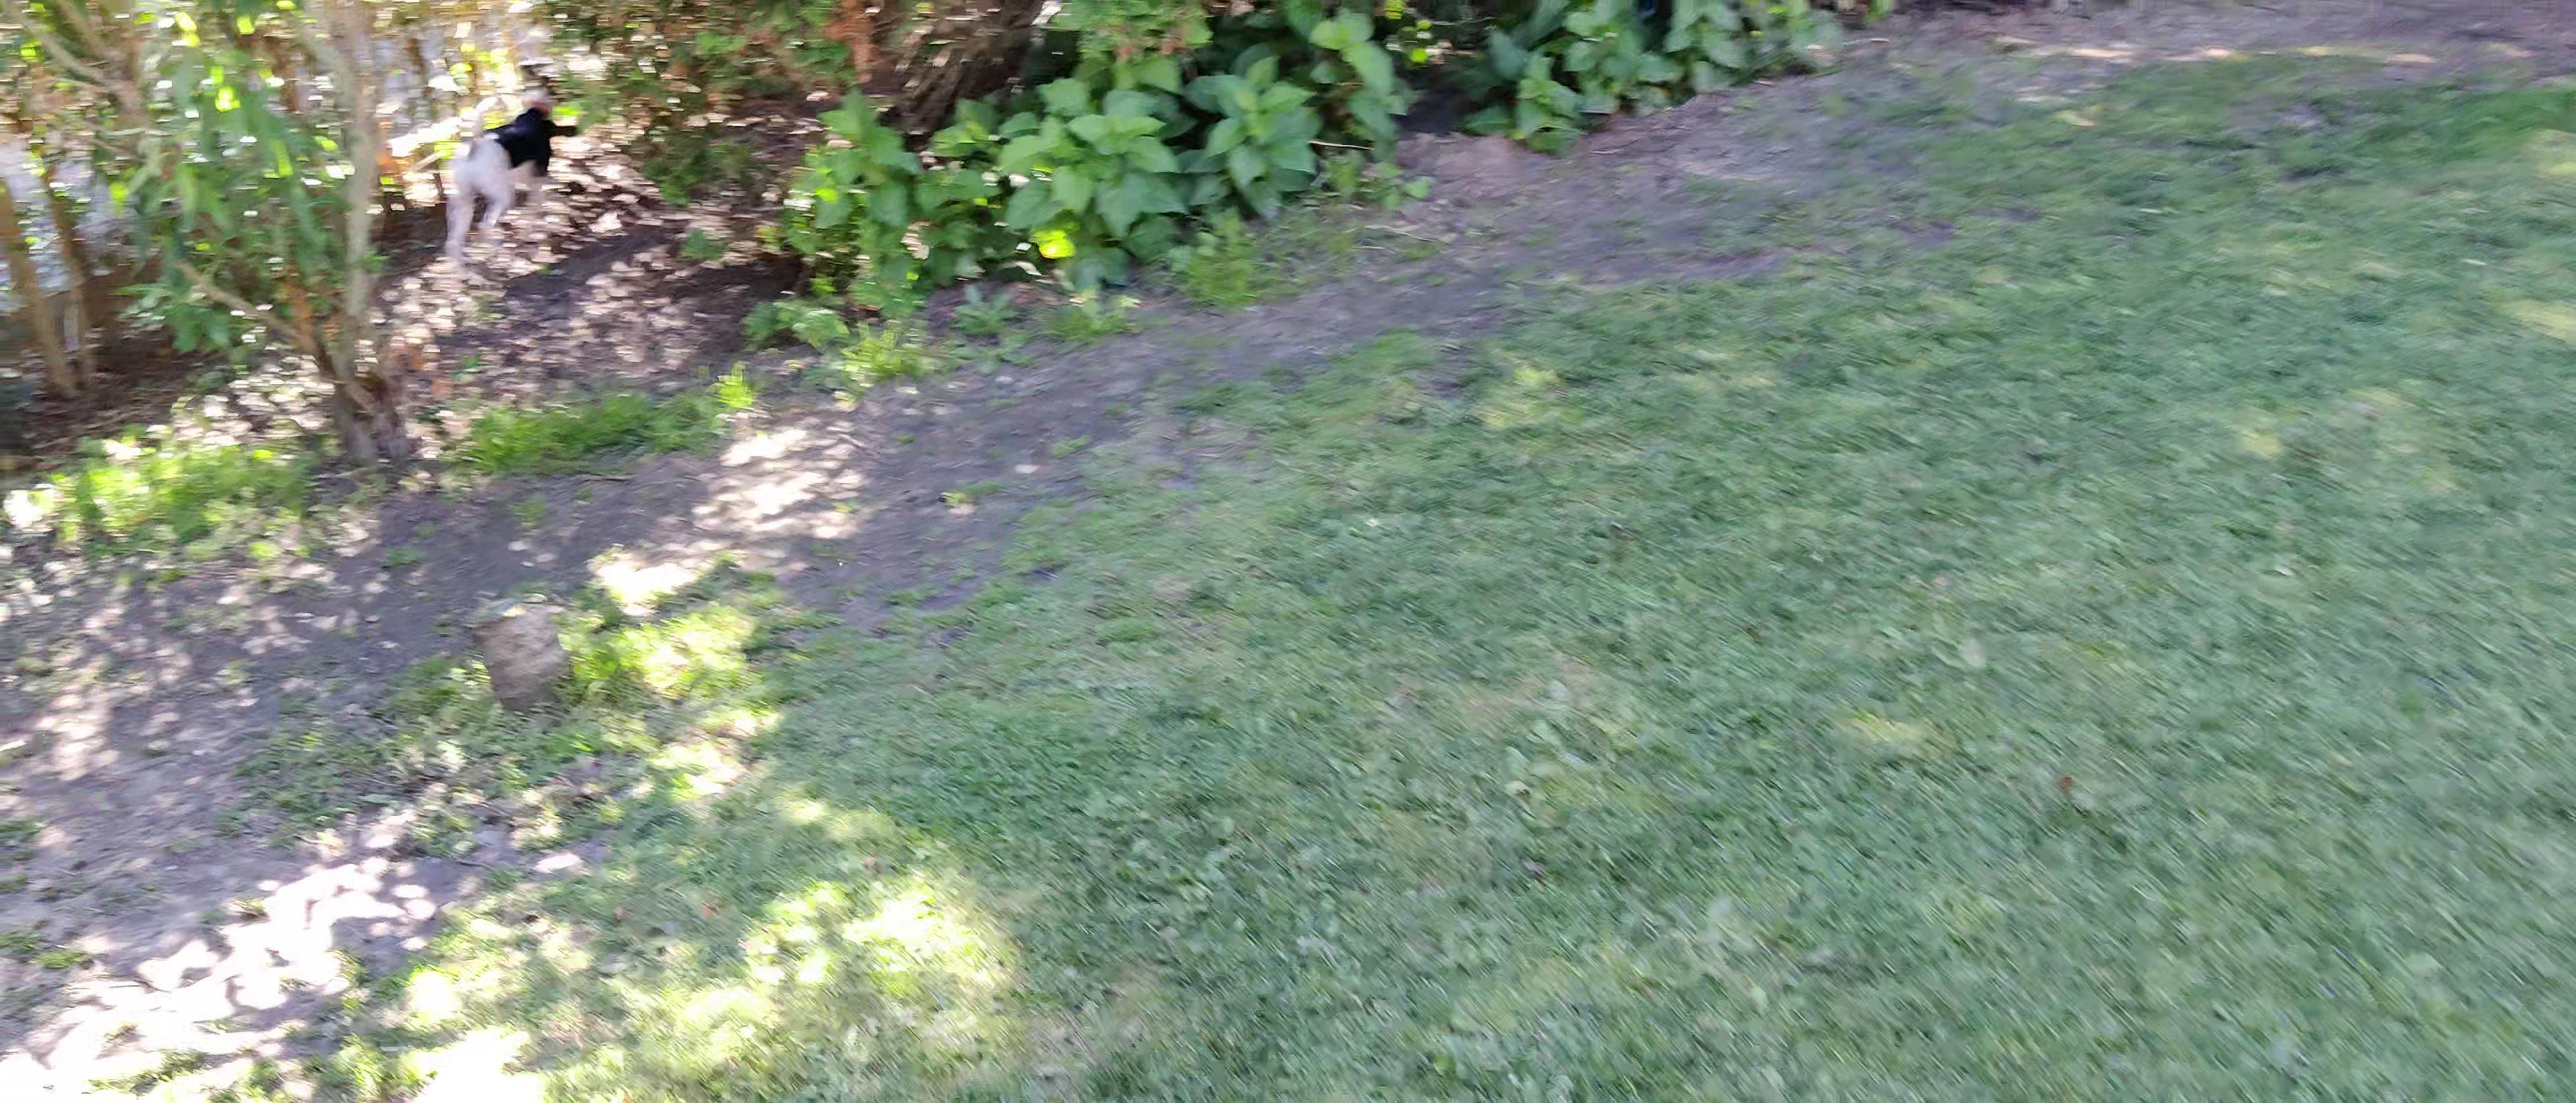Dog: (430, 46, 586, 299)
